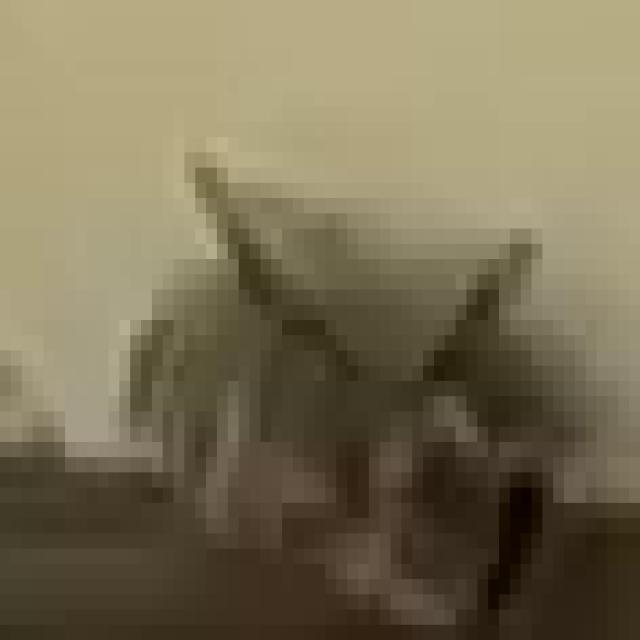honeybee: (128, 152, 556, 640)
